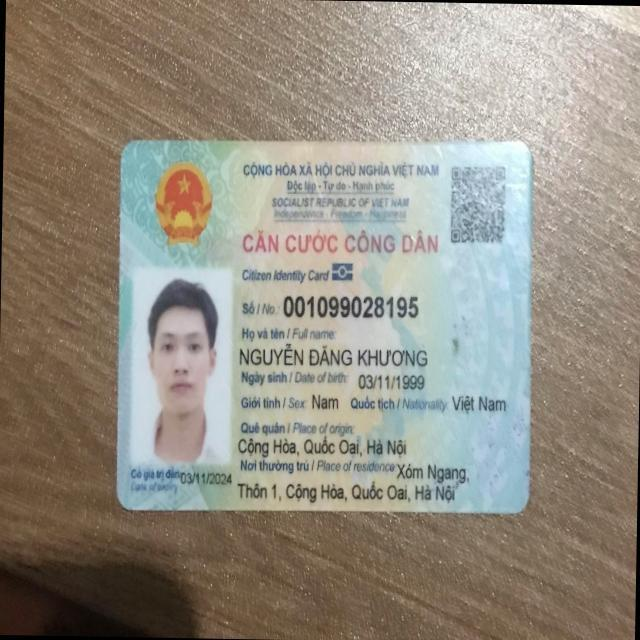current_place: (238, 474, 457, 505), (395, 460, 471, 486)
dob: (355, 370, 426, 390)
expire_date: (179, 468, 234, 490)
gender: (309, 390, 345, 414)
id: (279, 289, 418, 319)
name: (232, 338, 429, 371)
nationality: (449, 396, 507, 414)
origin_place: (237, 432, 408, 460)
